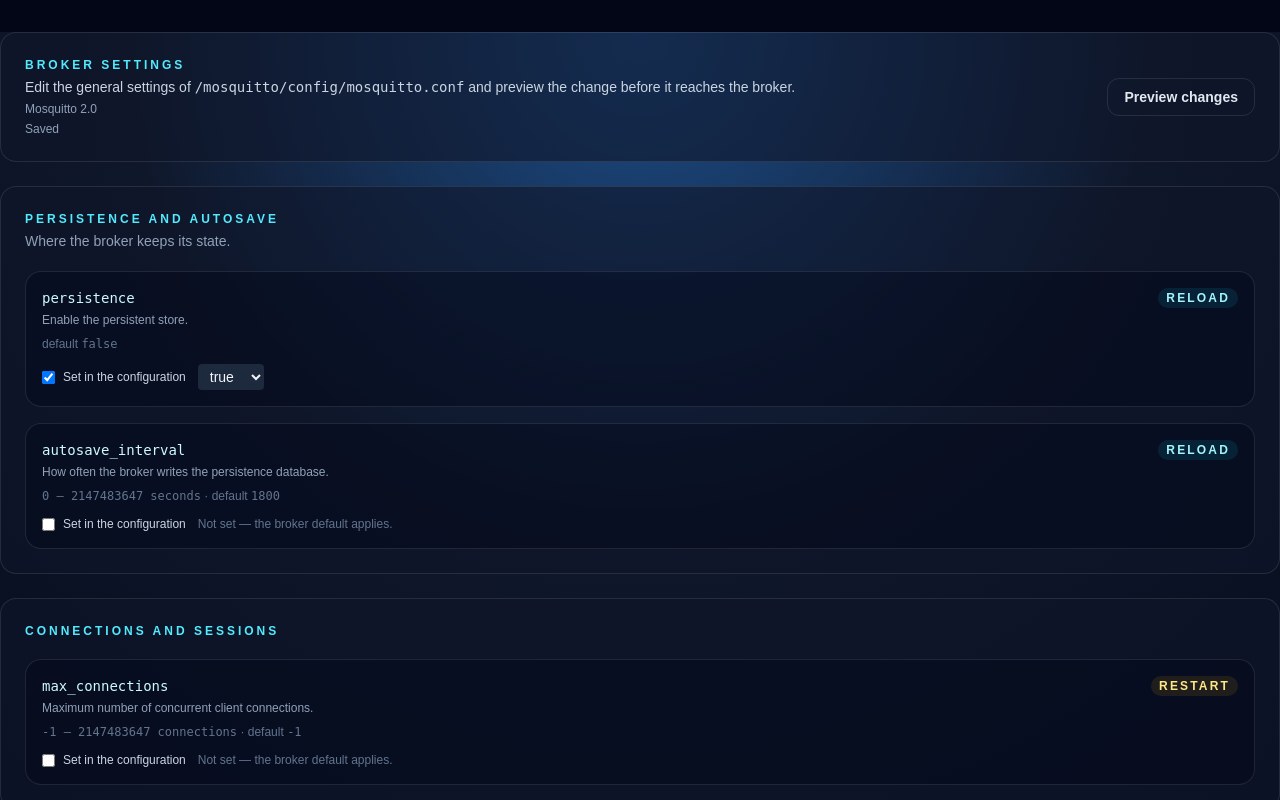
Test: SettingsPanel › sends the edited document to the preview endpoint
expect the text "Persistence and autosave" is shown: met, box top-left (25, 212), bottom-right (279, 226)
Select "false" in the dropdown named "persistence value": point(231, 377) top-left (198, 364), bottom-right (264, 390)
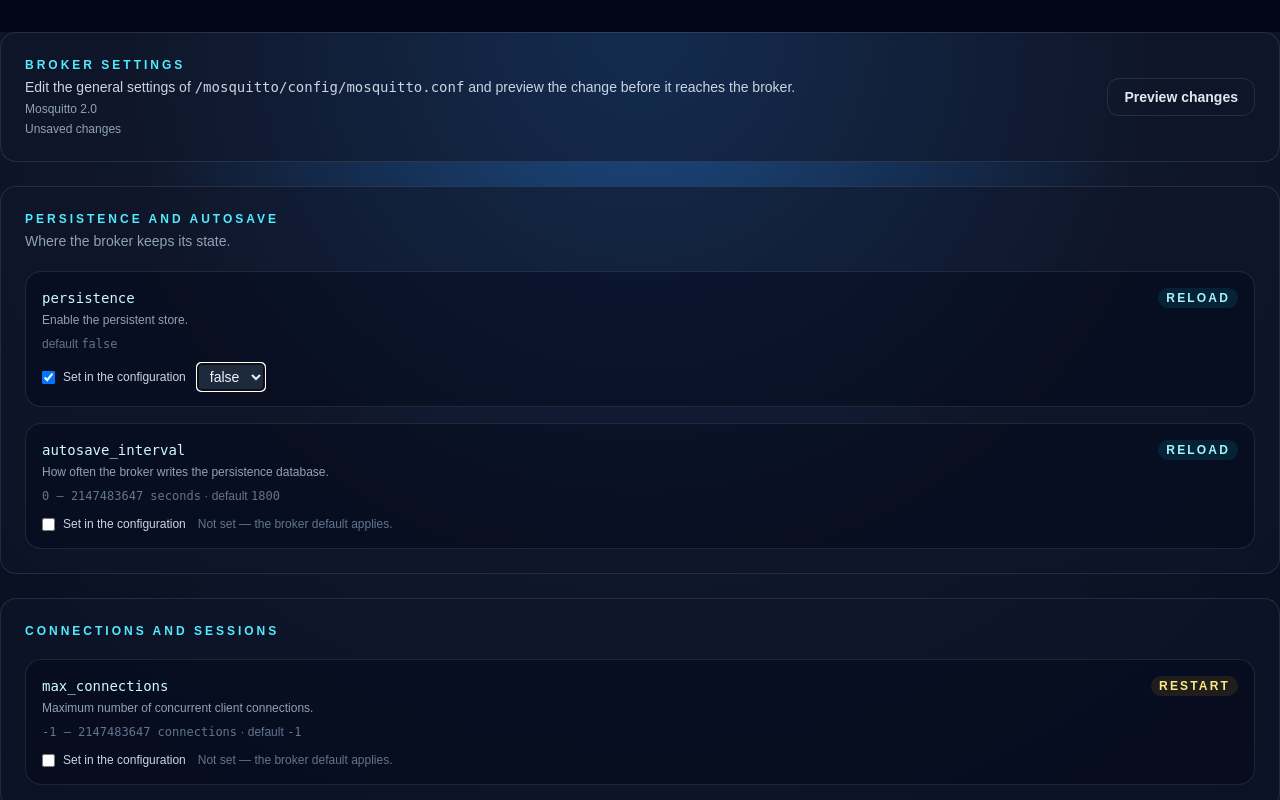
expect the text "Unsaved changes" is shown: met, box top-left (25, 122), bottom-right (121, 136)
Click the button "Preview changes": point(1181, 97) top-left (1107, 78), bottom-right (1255, 116)
(page scrolled)
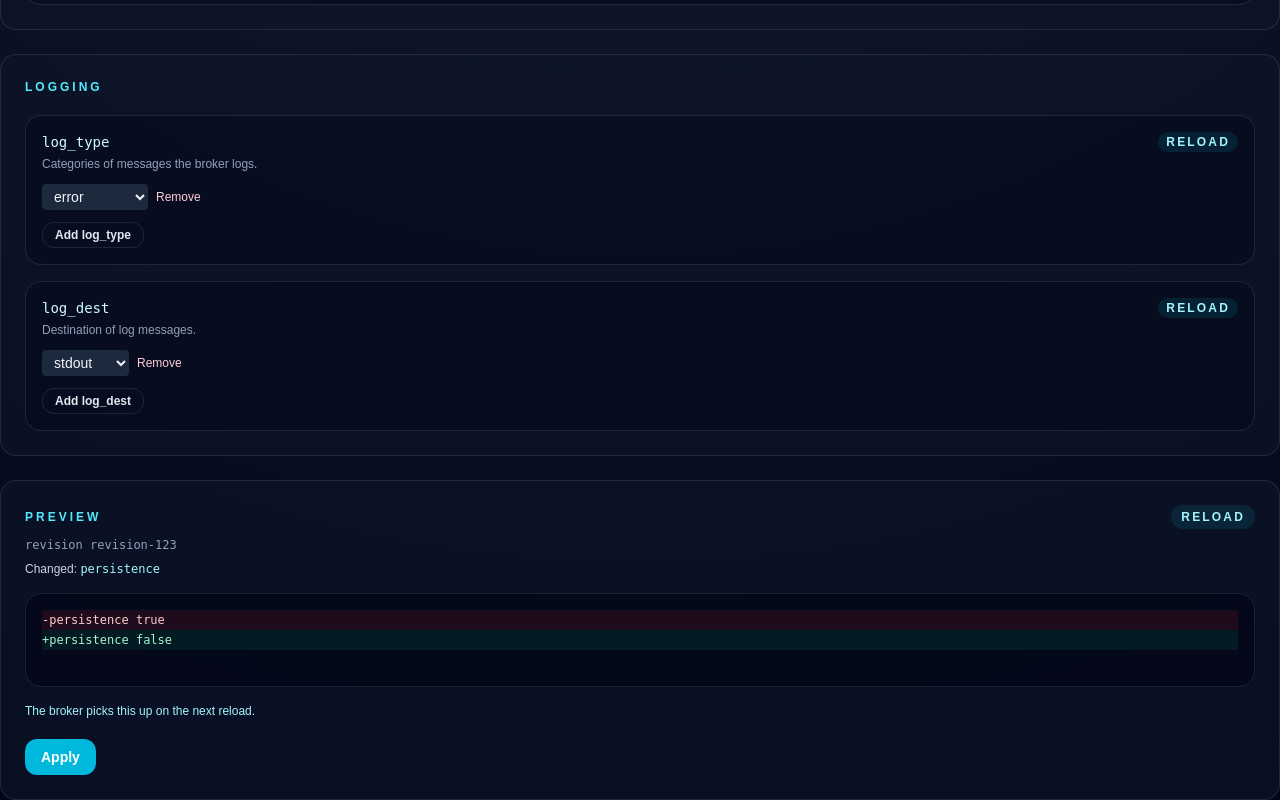
expect the text "revision revision-123" is shown: met, box top-left (25, 538), bottom-right (177, 552)
